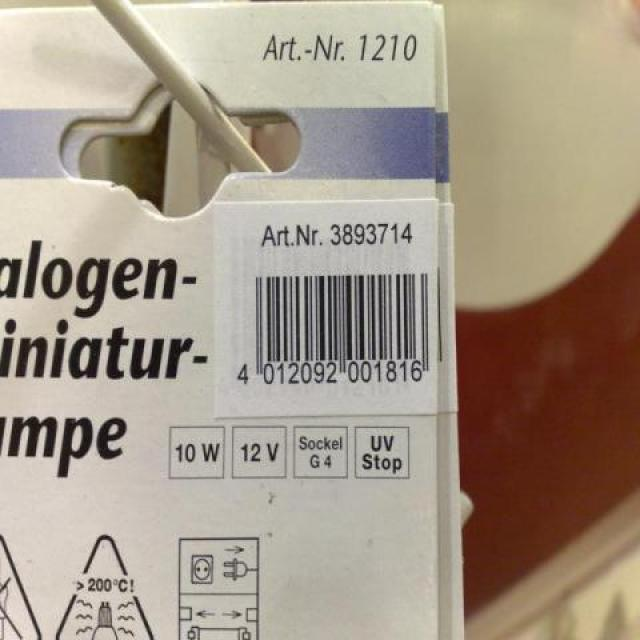Barcode: (226, 260, 434, 399)
